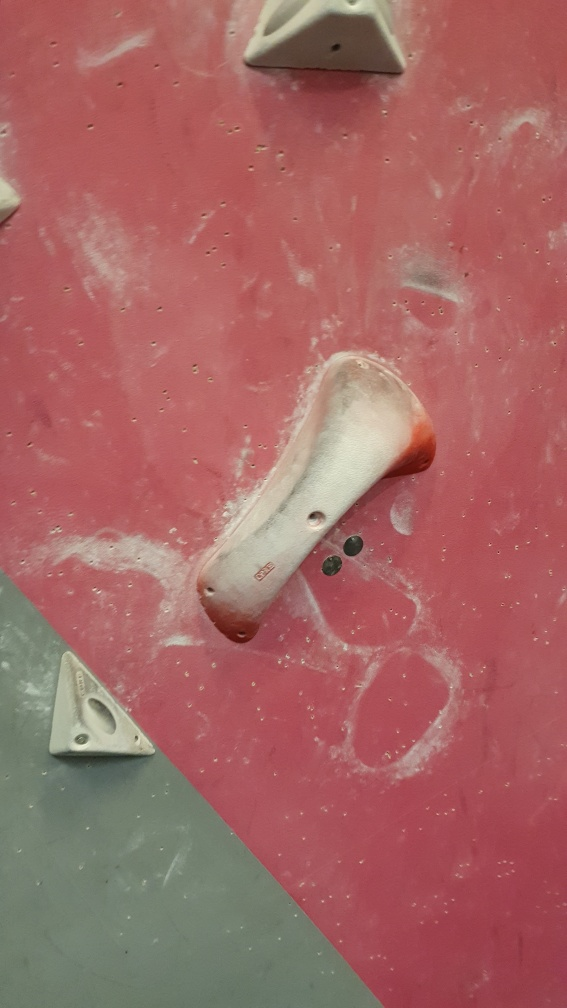Hand Start: (340, 532, 366, 562), (323, 551, 346, 575)
Pinch: (195, 351, 440, 650)
